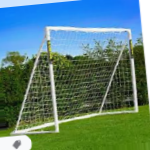goals: (8, 22, 142, 138)
